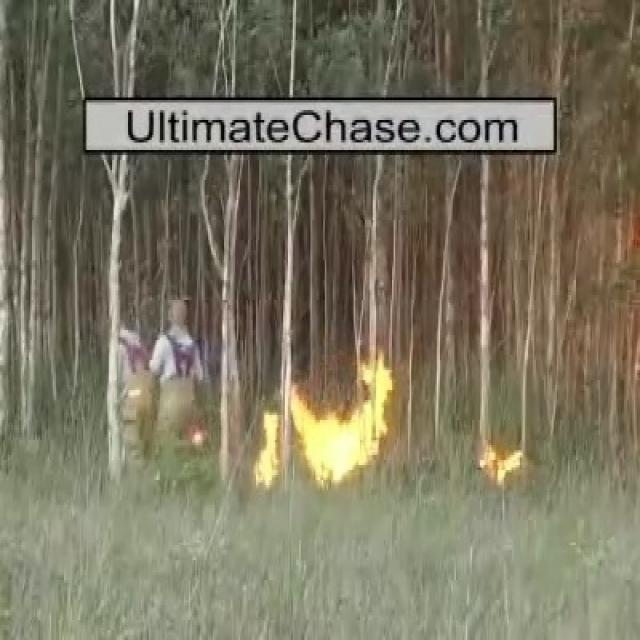fire: (291, 358, 392, 489), (256, 414, 279, 490), (480, 442, 523, 482)
